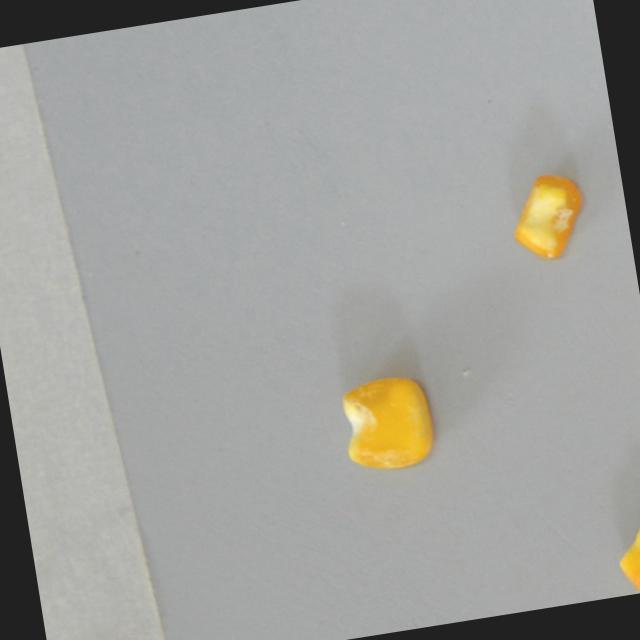no_canjicado: (611, 517, 640, 596)
pelicula: (336, 370, 440, 472), (504, 169, 592, 263)
